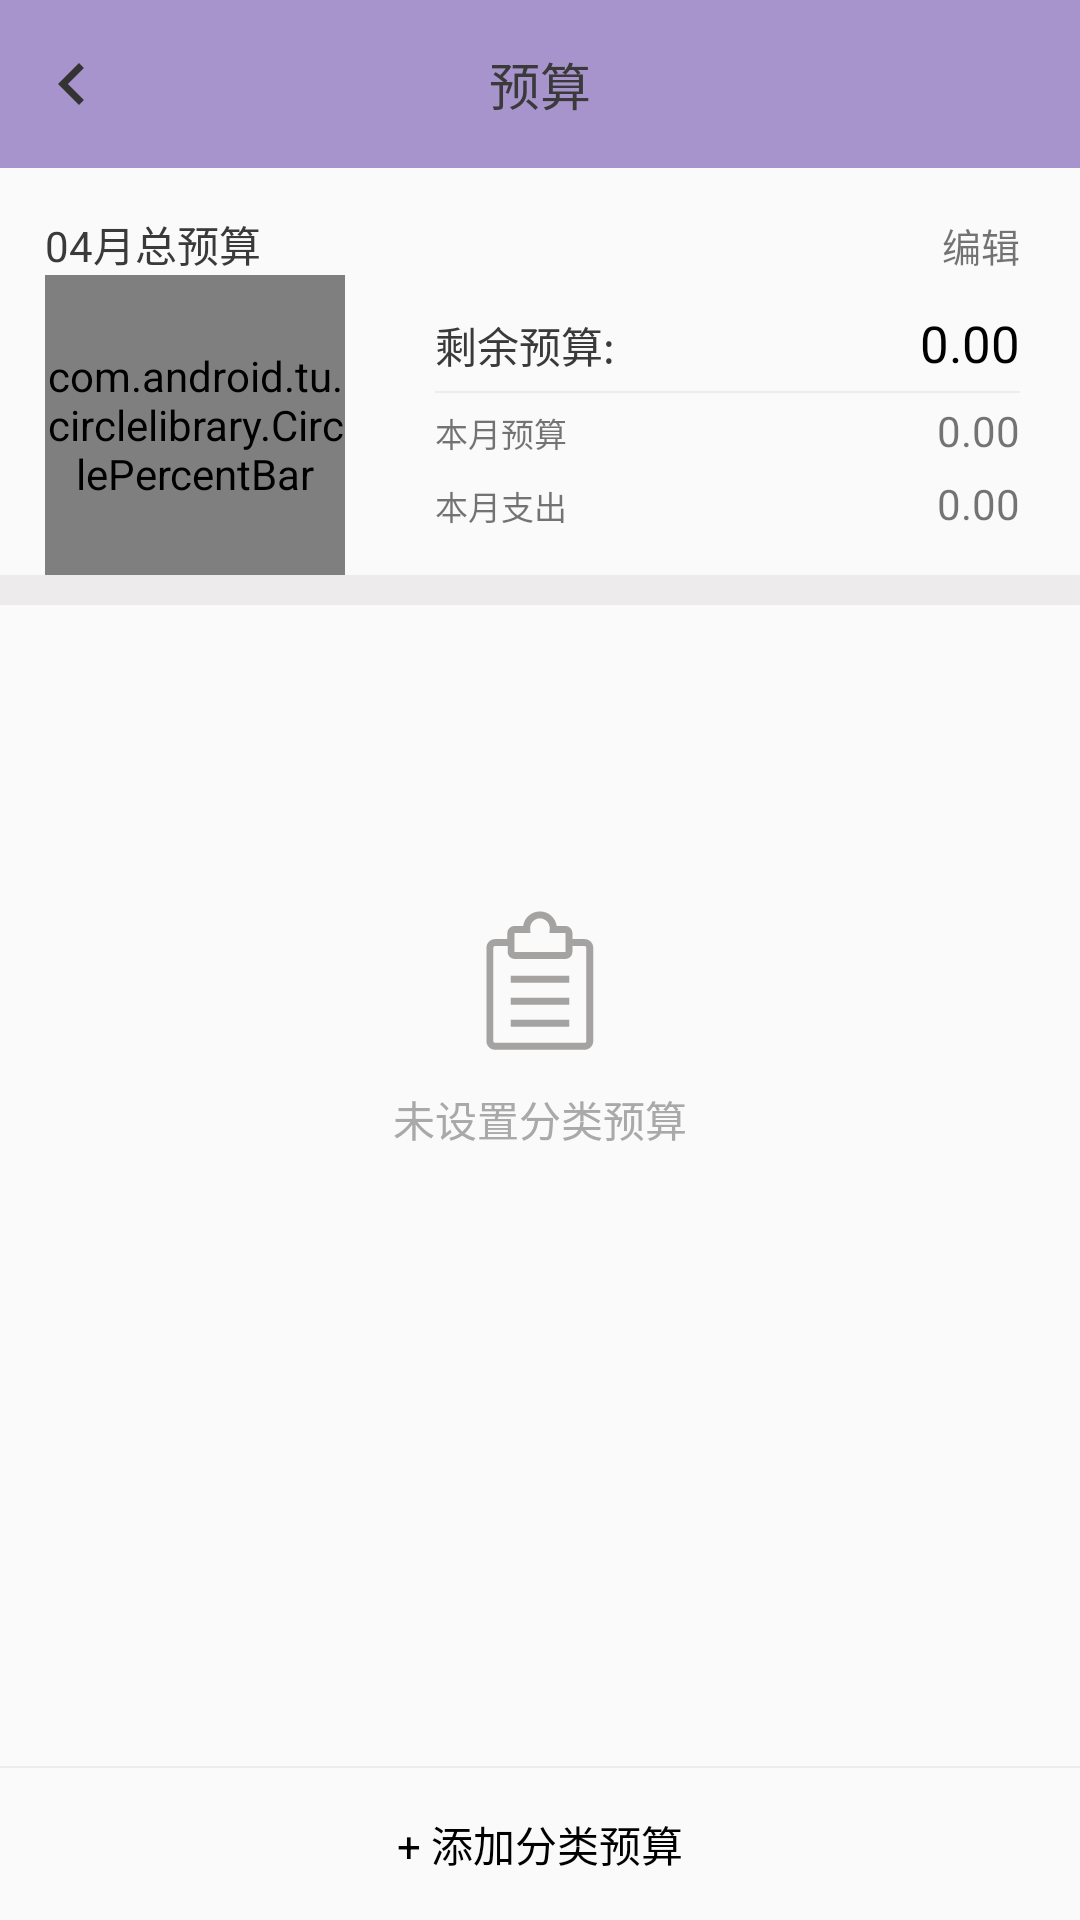

Icons on this 1080x1920 Android screen, each with the point to tap as [x,y]:
back: [71,84]
no data: [539,980]
